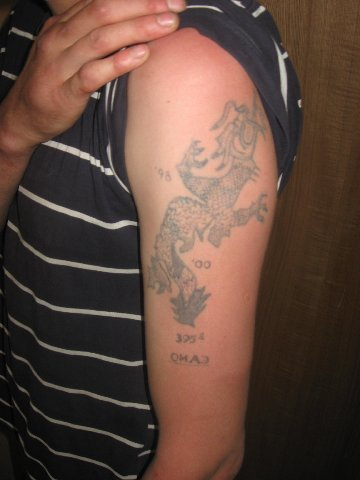tatu3_bukva: (165, 351, 220, 369)
tatu6_drakon: (147, 84, 283, 328)
